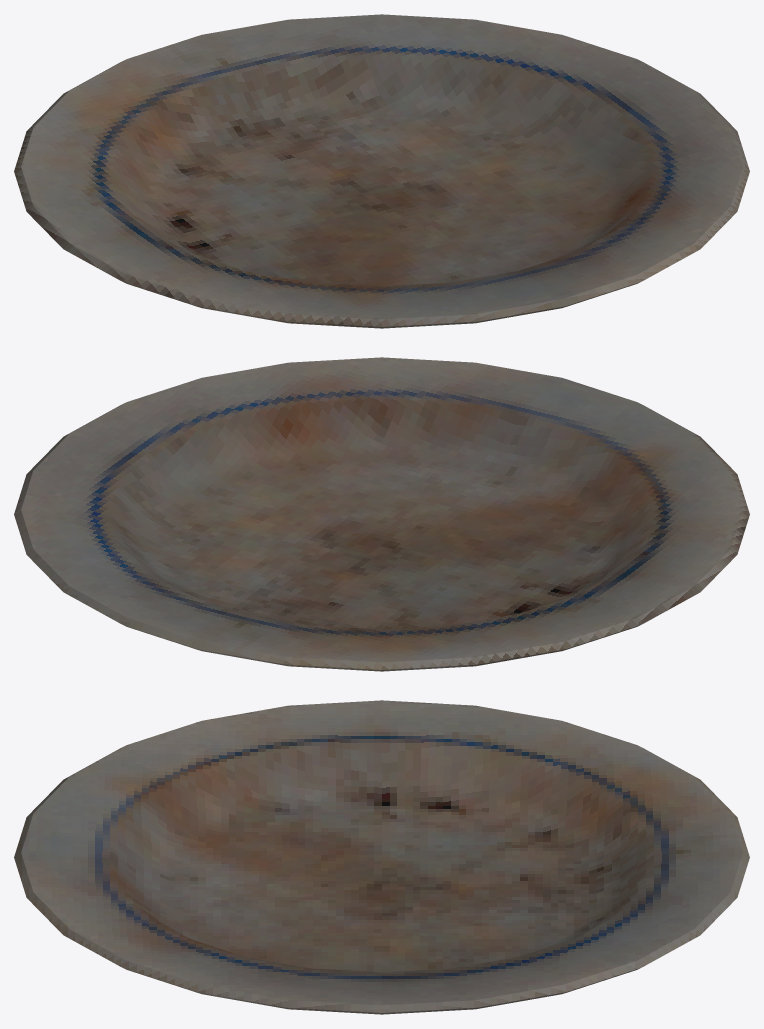
The model's file is plate_mp_1.glb.
The picture shows the model from 3 angles, top to bottom: view 1: azimuth 30°, elevation 25°; view 2: azimuth 150°, elevation 25°; view 3: azimuth 270°, elevation 25°; orthographic projection.
Visible parts, largest first — view 1: plate_mp_1; view 2: plate_mp_1; view 3: plate_mp_1.
Boxes of the visible parts, x1,y1,x2,y2 form: plate_mp_1: (14,14,749,328); plate_mp_1: (14,357,749,671); plate_mp_1: (14,700,749,1014).
Size of the model in its own units: 0.3276 by 0.0221 by 0.3276.
Materials: 1 (1 with a texture image).
